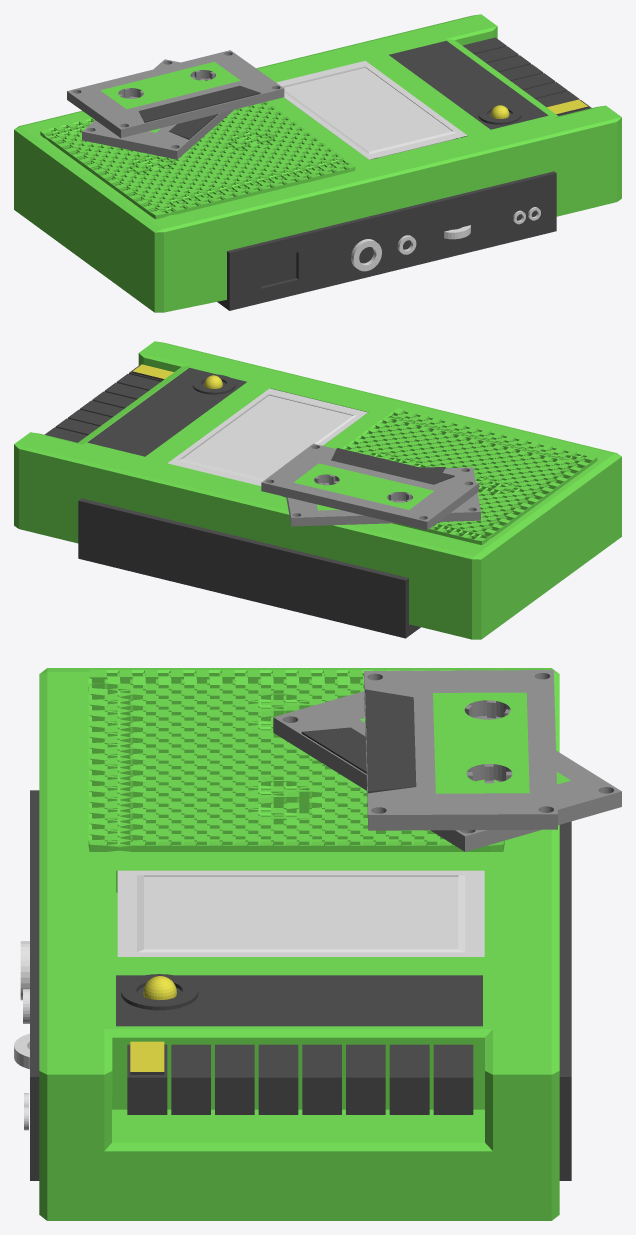
The model's file is cassetteplayer.fbx.
The picture shows the model from 3 angles, top to bottom: view 1: azimuth 30°, elevation 25°; view 2: azimuth 150°, elevation 25°; view 3: azimuth 270°, elevation 25°; orthographic projection. The views are drawn at different scales.
Visible parts, largest first — view 1: Base, Cube.001, Plane.003, Plane.005, Plane.001, Plane, buttons, Plane.002, Circle.004, Circle.006; view 2: Base, Cube.001, Plane.003, Plane.005, Plane.001, Plane, buttons, Plane.002, Circle.006; view 3: Base, Plane.003, Plane.001, Plane.005, buttons, Plane, Plane.002, Cube.001, Circle.006.
Part boxes in pixels (left/top/right/bottom): Base: left=14, top=14, right=621, bottom=312; Cube.001: left=217, top=171, right=556, bottom=310; Plane.003: left=40, top=101, right=355, bottom=219; Plane.005: left=67, top=50, right=284, bottom=137; Plane.001: left=276, top=60, right=467, bottom=159; Plane: left=389, top=40, right=548, bottom=129; buttons: left=462, top=37, right=591, bottom=115; Plane.002: left=82, top=59, right=233, bottom=159; Circle.004: left=351, top=239, right=381, bottom=271; Circle.006: left=478, top=104, right=521, bottom=124; Base: left=14, top=341, right=621, bottom=639; Cube.001: left=78, top=498, right=420, bottom=638; Plane.003: left=282, top=408, right=597, bottom=544; Plane.005: left=261, top=443, right=478, bottom=530; Plane.001: left=168, top=388, right=367, bottom=485; Plane: left=87, top=367, right=246, bottom=456; buttons: left=44, top=364, right=173, bottom=442; Plane.002: left=286, top=467, right=480, bottom=526; Circle.006: left=192, top=374, right=235, bottom=394; Base: left=39, top=668, right=559, bottom=1220; Plane.003: left=88, top=669, right=504, bottom=851; Plane.001: left=117, top=870, right=484, bottom=956; Plane.005: left=364, top=670, right=557, bottom=830; buttons: left=127, top=1041, right=473, bottom=1114; Plane: left=116, top=975, right=482, bottom=1026; Plane.002: left=273, top=691, right=621, bottom=851; Cube.001: left=30, top=790, right=571, bottom=1180; Circle.006: left=121, top=974, right=198, bottom=1010.
Size of the model in its own units: 578 by 140 by 363.
